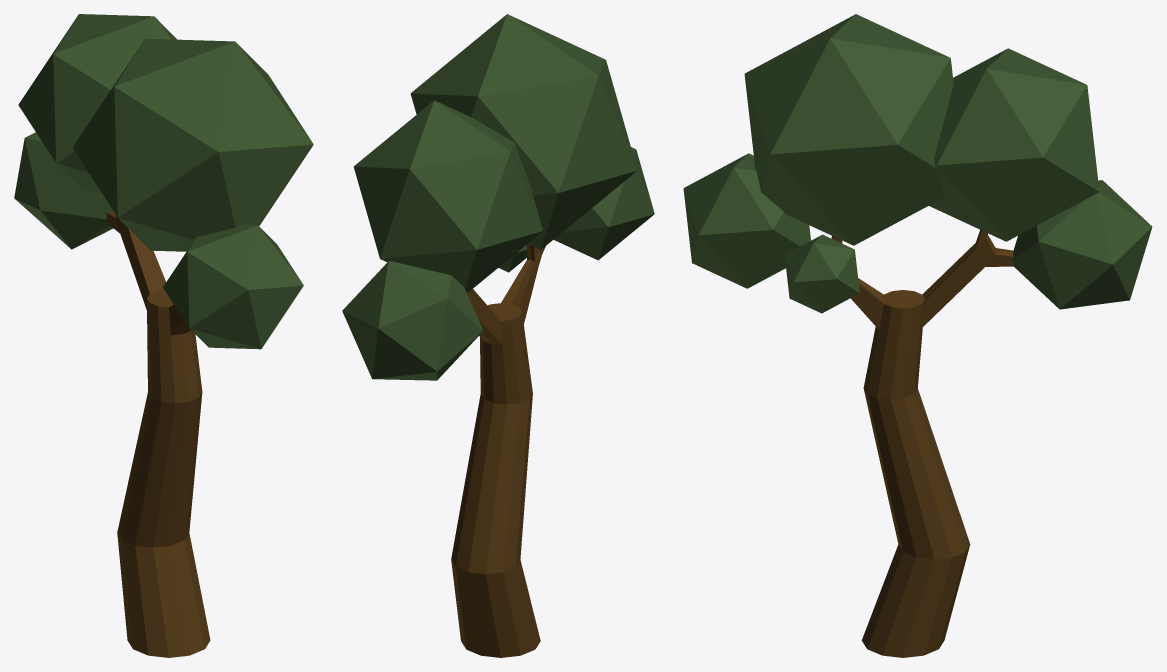
Rendered from ARVOREEXEMPLO.fbx.
3 views of the same model, side by side, from view 1: azimuth 30°, elevation 25°; view 2: azimuth 150°, elevation 25°; view 3: azimuth 270°, elevation 25° (orthographic). The views are drawn at different scales.
Parts seen in each view (by area): view 1: arvore3; view 2: arvore3; view 3: arvore3.
Boxes of the visible parts, bbox=[...] form: arvore3: bbox=[14, 14, 313, 657]; arvore3: bbox=[342, 14, 654, 657]; arvore3: bbox=[683, 14, 1152, 657].
Bounding box in the file's own units: 82.66 × 253 × 174.
